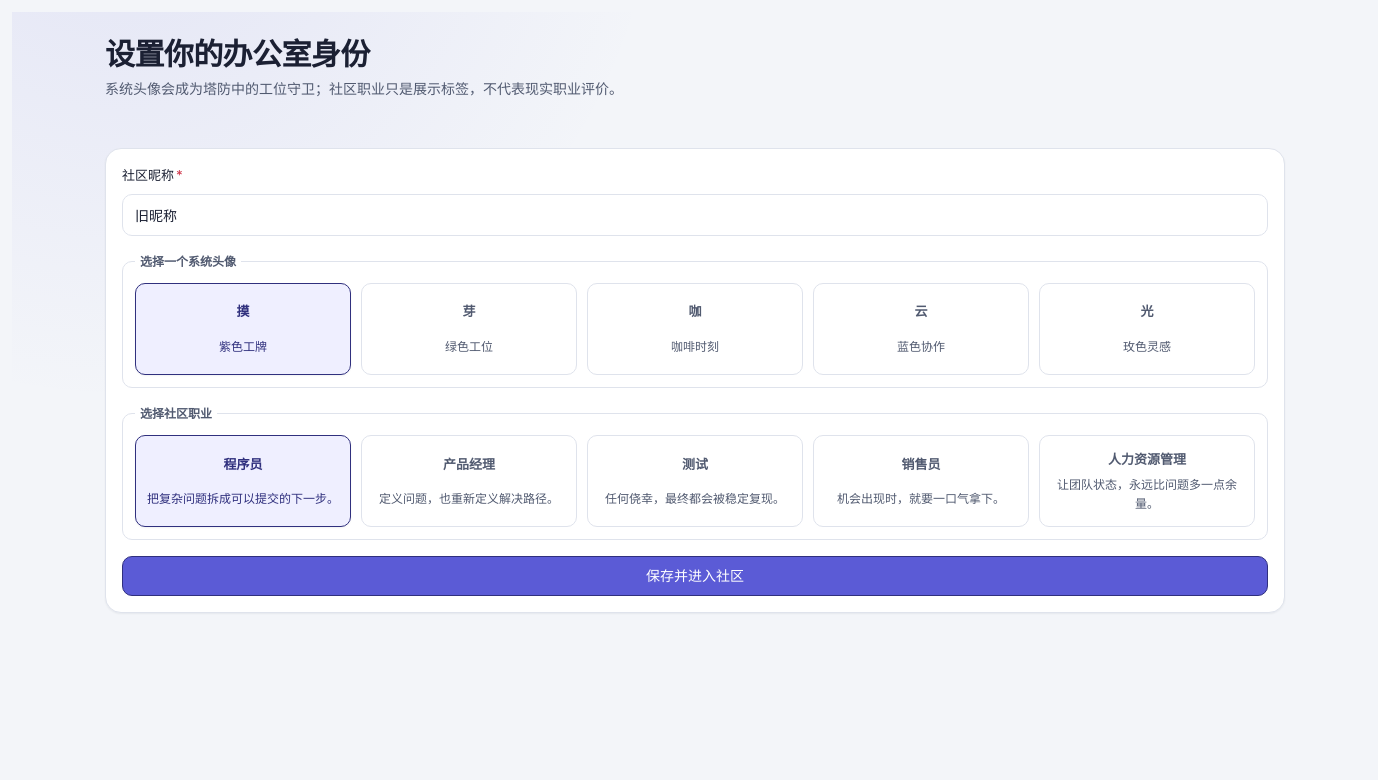
Scenario: CommunityOnboardingPage › submits the selected identity and applies the returned profile before entering the community
Replace the text in the field labelled "社区昵称*" with "  新办公室昵称  " at (695, 215), box [122, 194, 1268, 236]
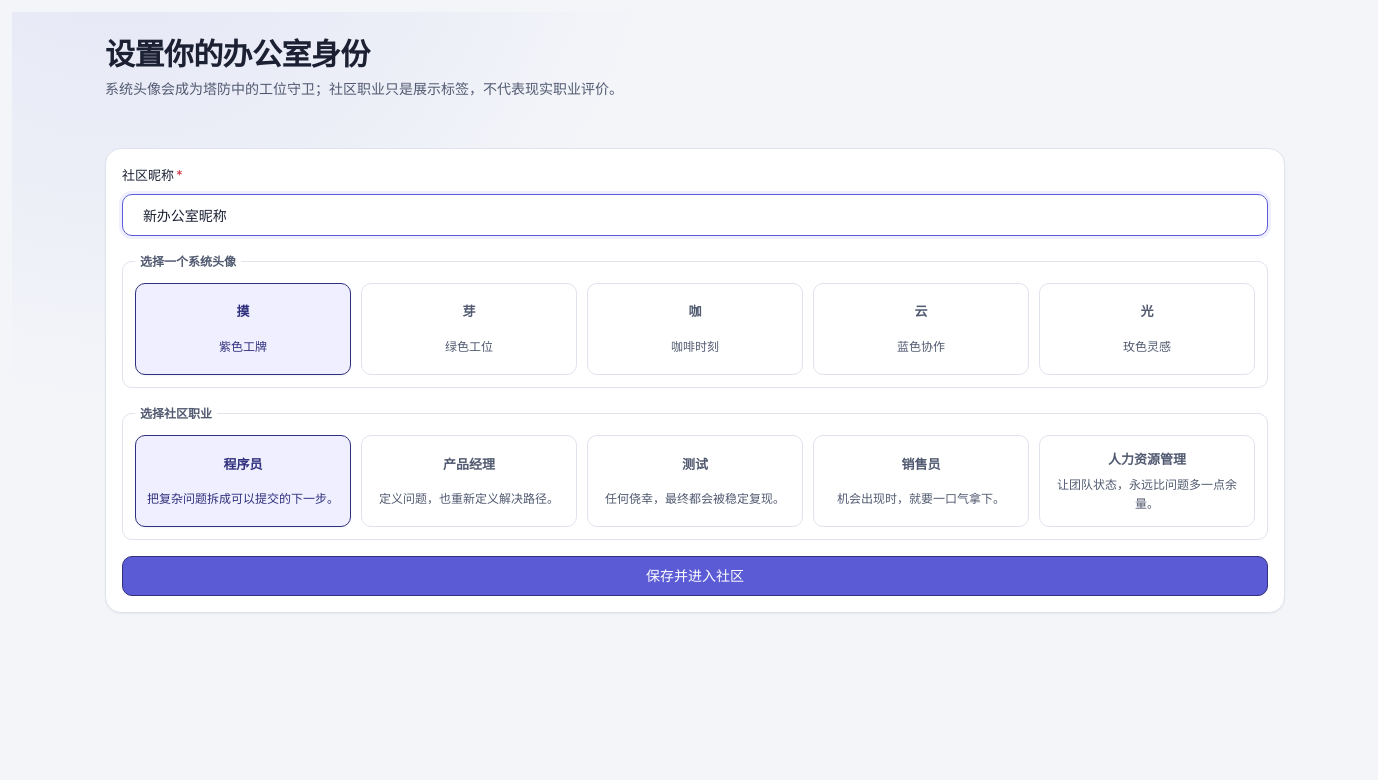
Click the button "芽 绿色工位" at (469, 329), box [361, 283, 577, 375]
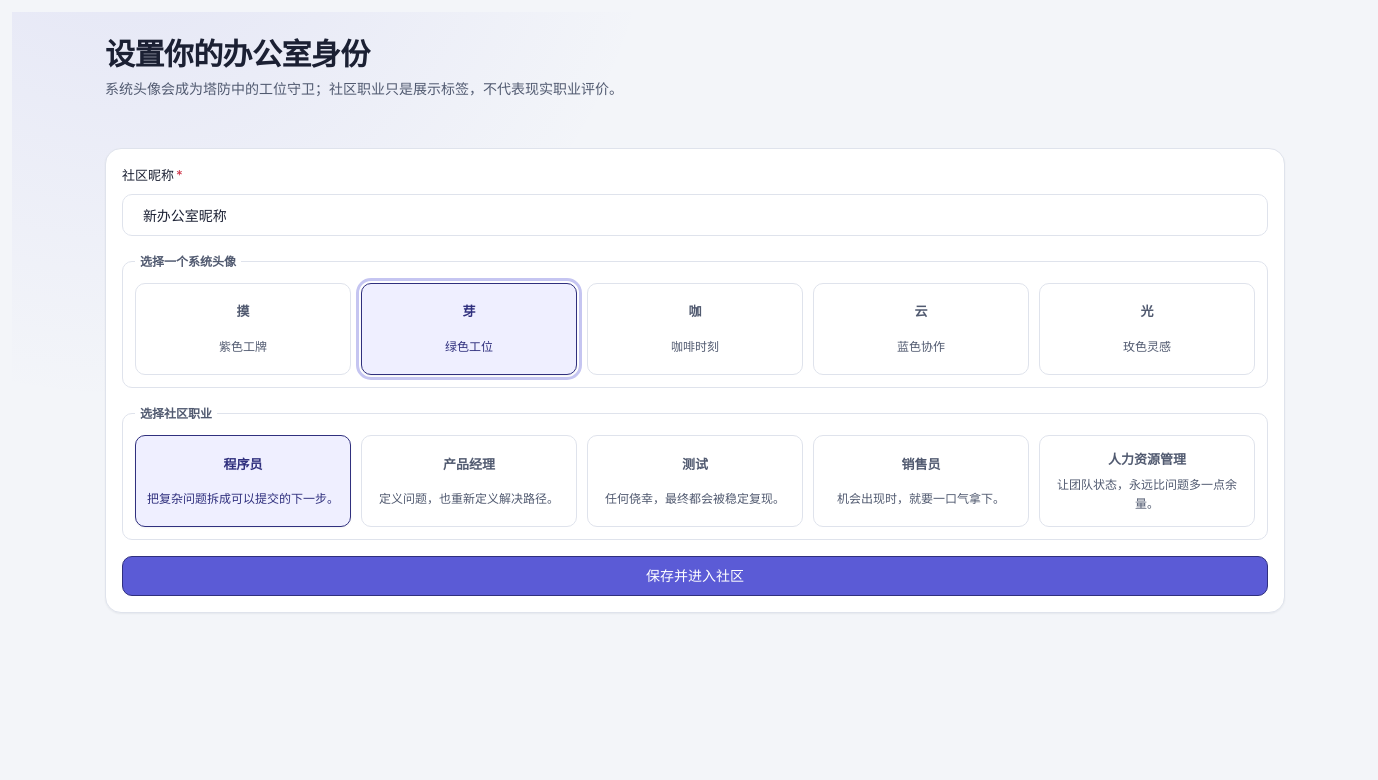
Click the button "产品经理 定义问题，也重新定义解决路径。" at (469, 481), box [361, 435, 577, 527]
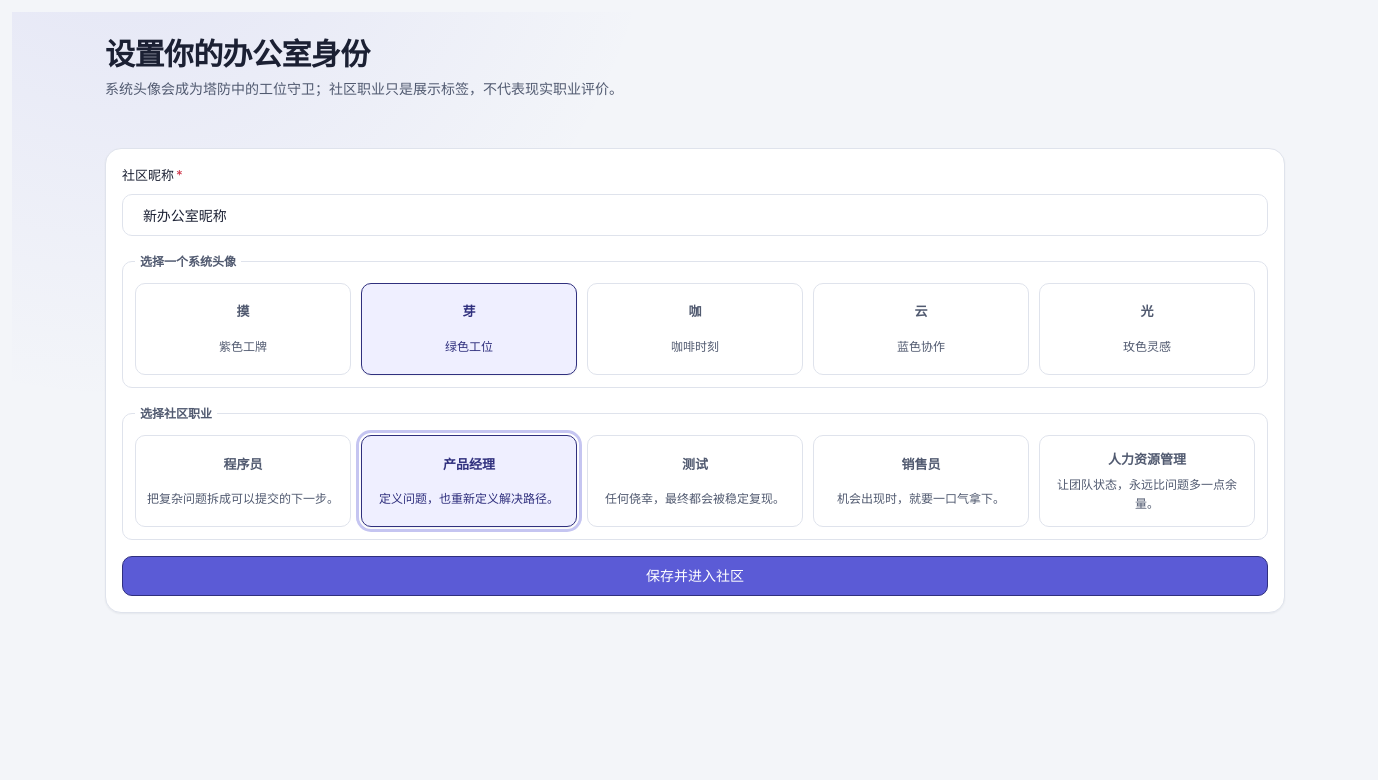
Click the button "保存并进入社区" at (695, 576), box [122, 556, 1268, 596]
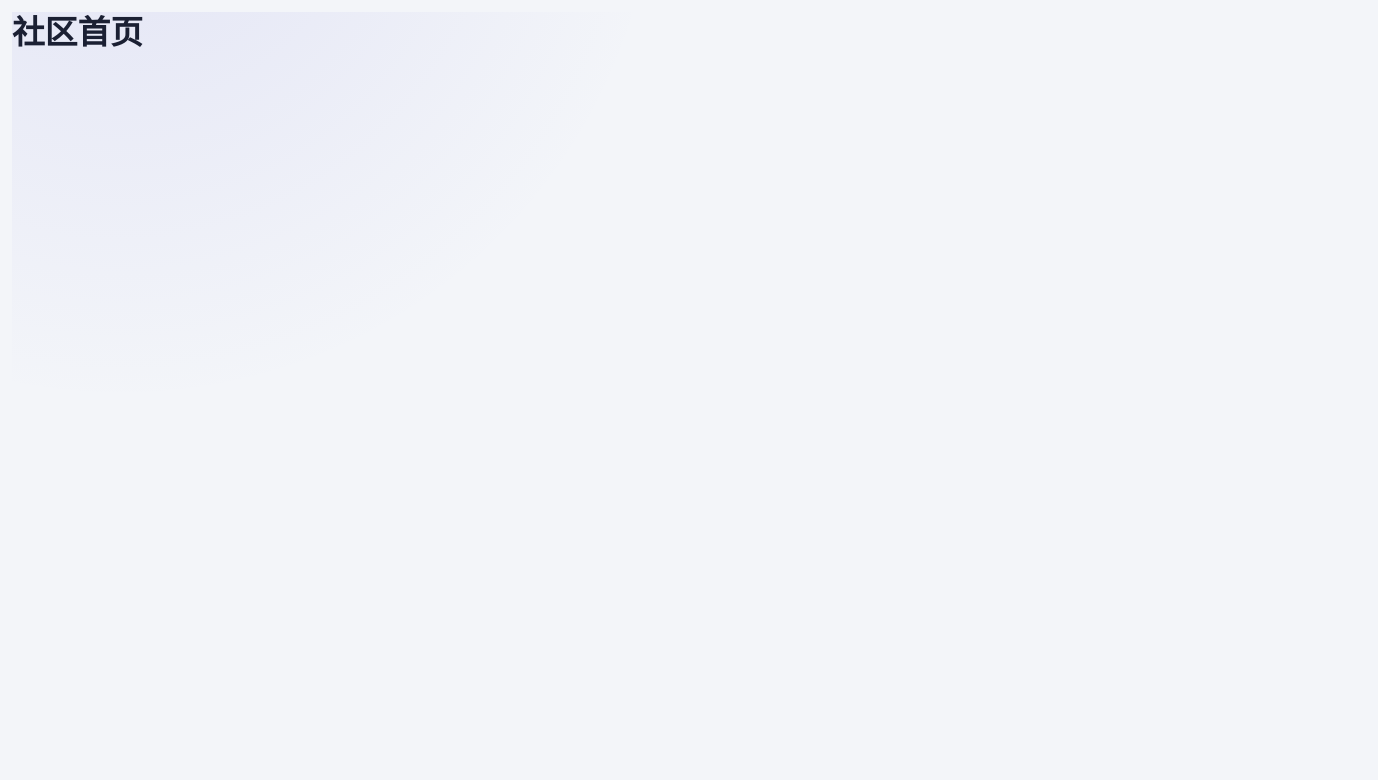
Now the heading "社区首页" is shown, box [12, 12, 143, 52]
